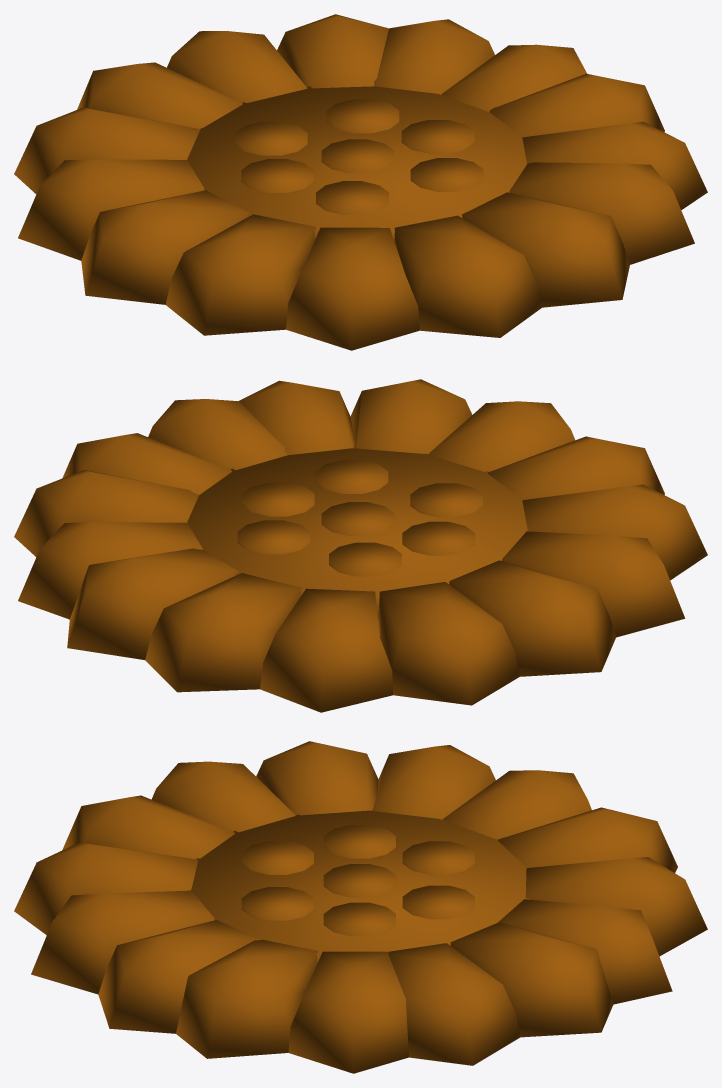
File: Yakgua.fbx
The picture shows the model from 3 angles, top to bottom: view 1: azimuth 30°, elevation 25°; view 2: azimuth 150°, elevation 25°; view 3: azimuth 270°, elevation 25°; orthographic projection.
Visible parts, largest first — view 1: Sphere.015; view 2: Sphere.015; view 3: Sphere.015.
Part boxes in pixels (left/top/right/bottom): Sphere.015: left=14, top=14, right=707, bottom=350; Sphere.015: left=14, top=379, right=707, bottom=712; Sphere.015: left=14, top=741, right=707, bottom=1073.
Size of the model in its own units: 332 by 37.33 by 333.
